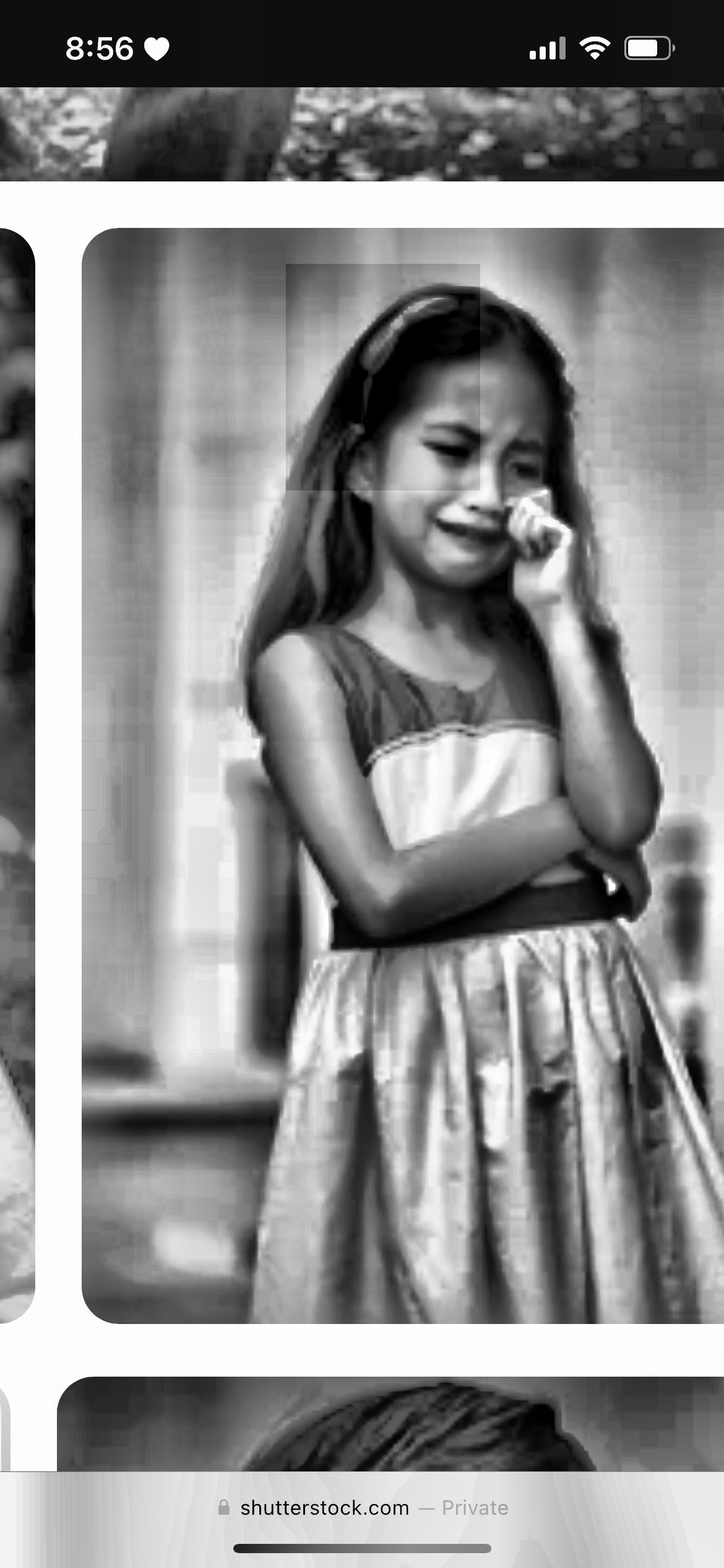sad: (353, 326, 594, 606)
